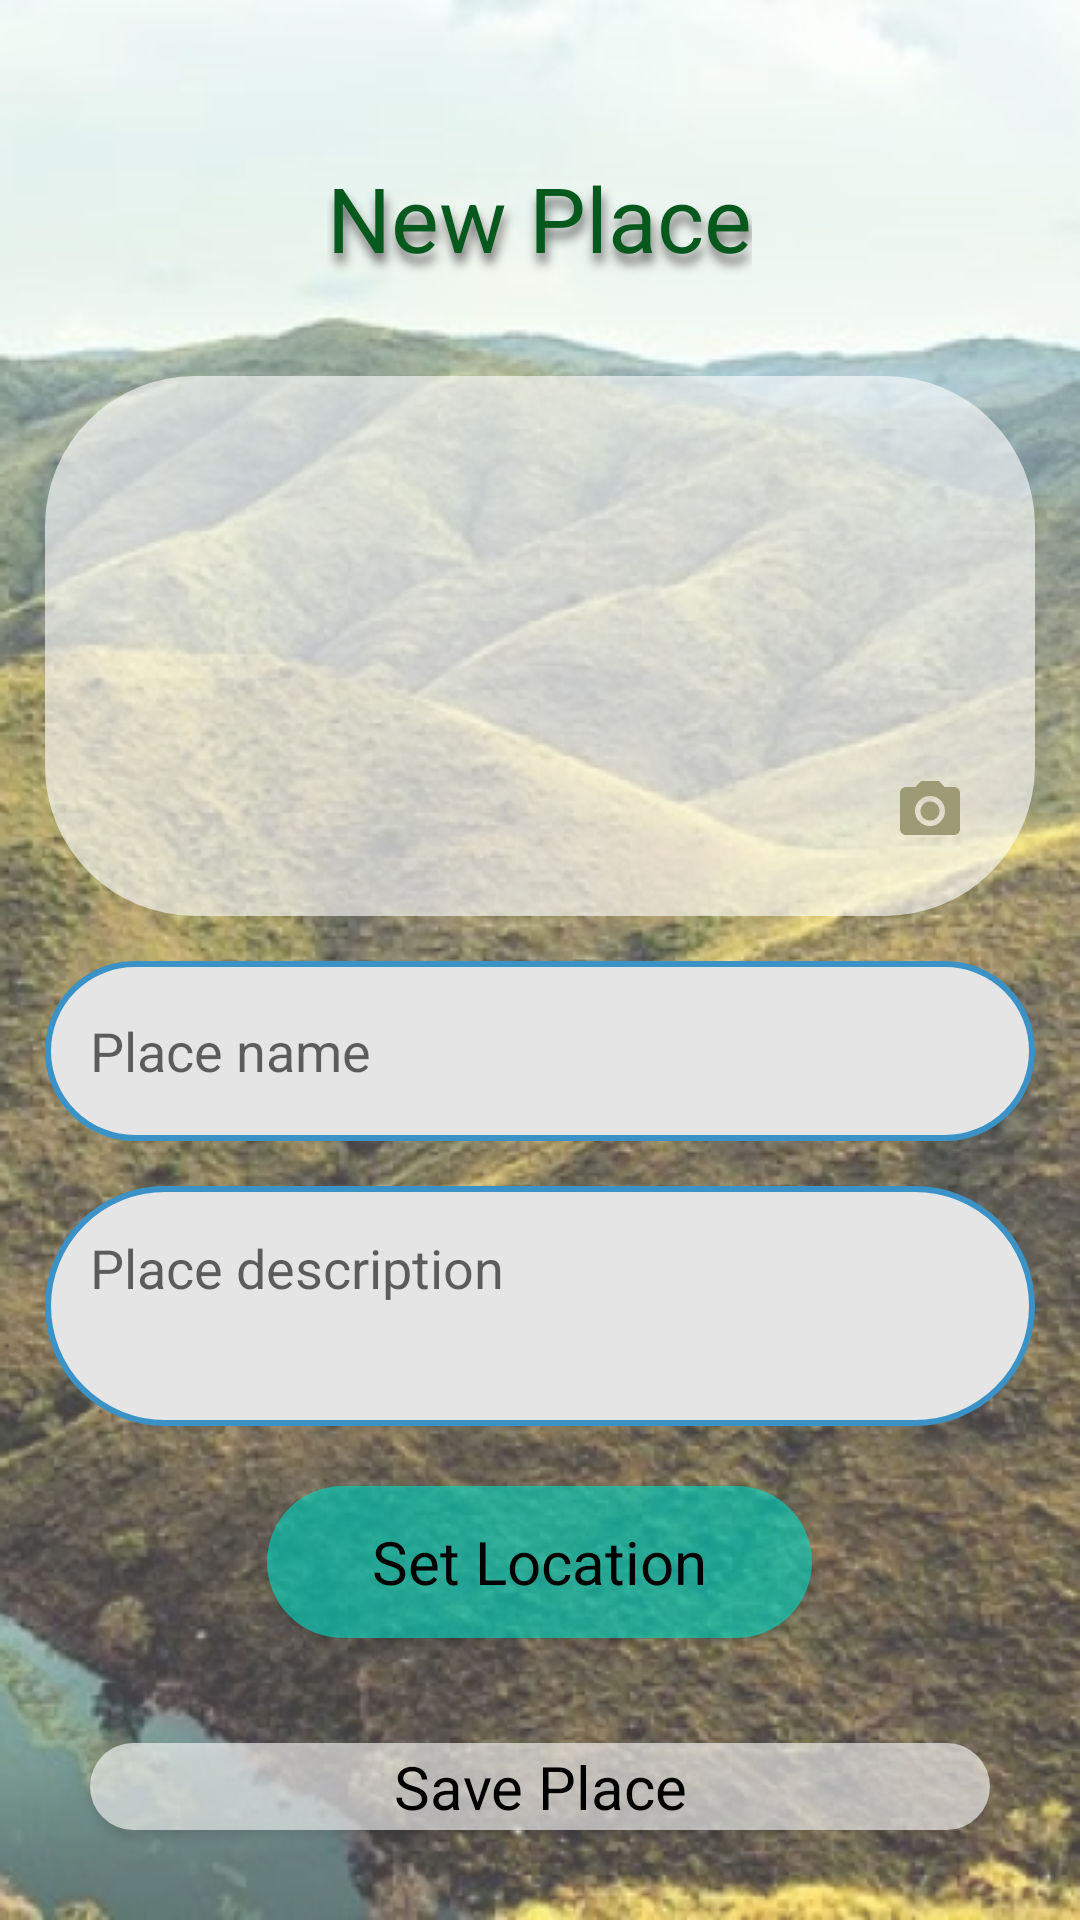

Icons on this 1080w x 1920h Android screen, each with the point to tap as (x,y):
camera: (930,825)
